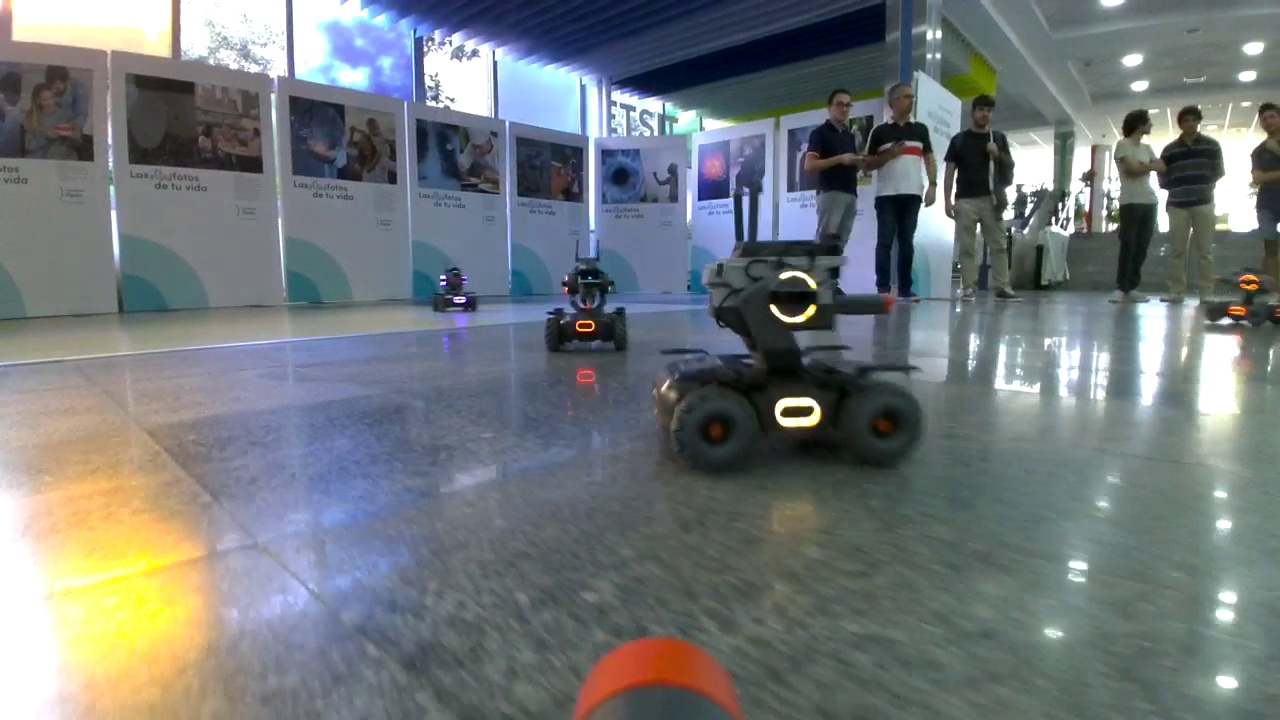robot: (649, 236, 937, 471), (545, 238, 631, 354), (1207, 267, 1280, 337), (432, 264, 478, 317)
